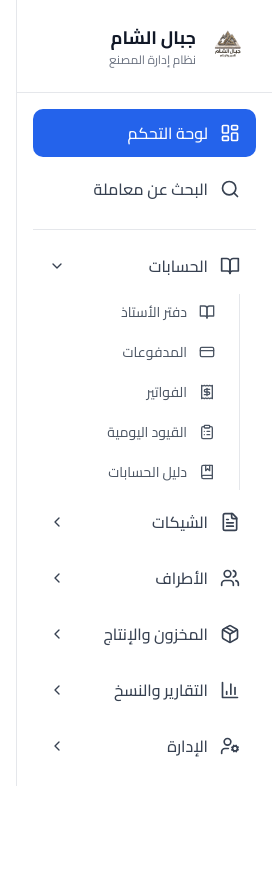
Sidebar › Admin Navigation (Owner Only) › shows user management link for owners when admin group is expanded
Click the admin group trigger
Click the button "الإدارة".
click(144, 746)  # box [33, 722, 256, 770]
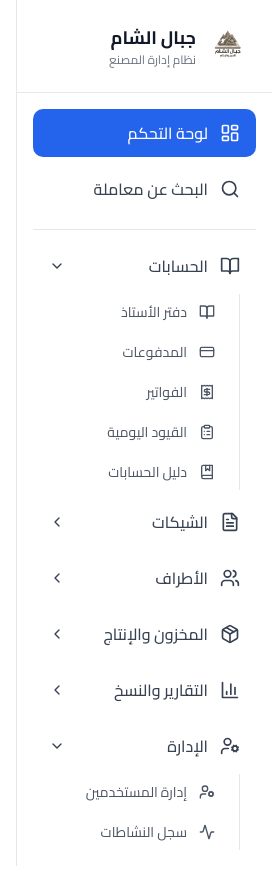
Expected: the link "إدارة المستخدمين" is shown, [86, 779, 215, 805]
